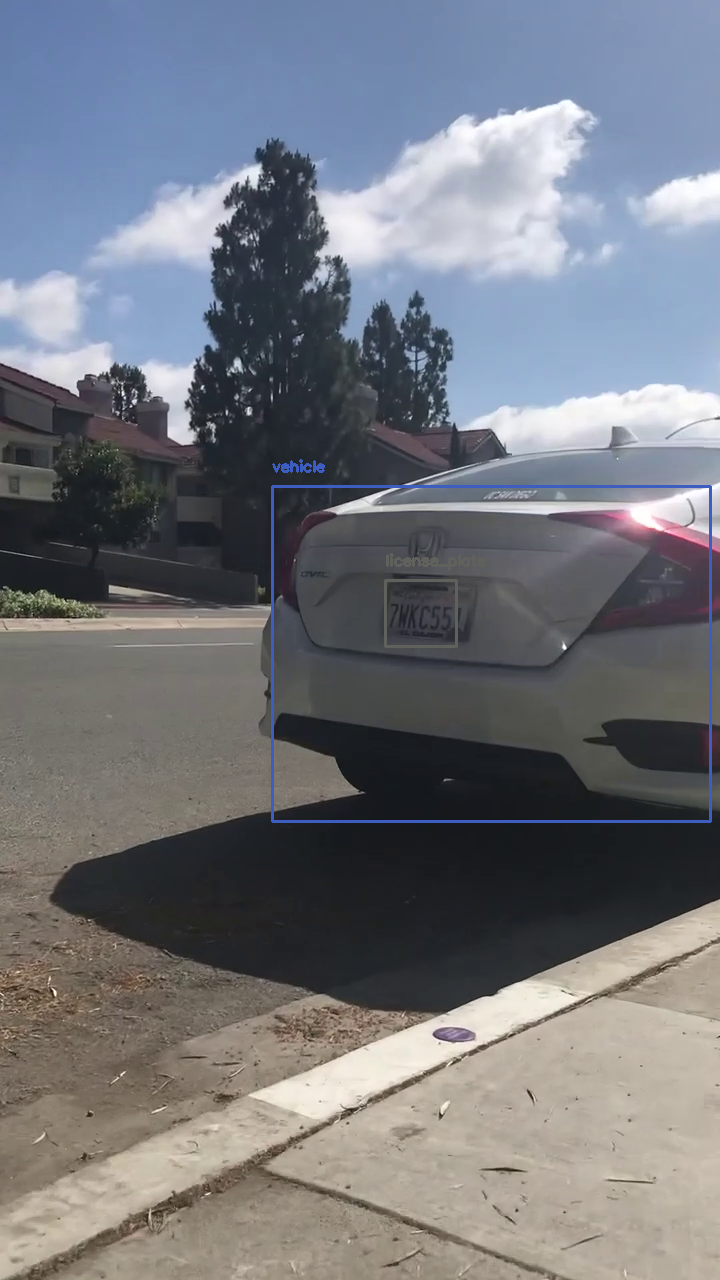license_plate: (385, 580, 456, 646)
vehicle: (272, 486, 710, 821)
